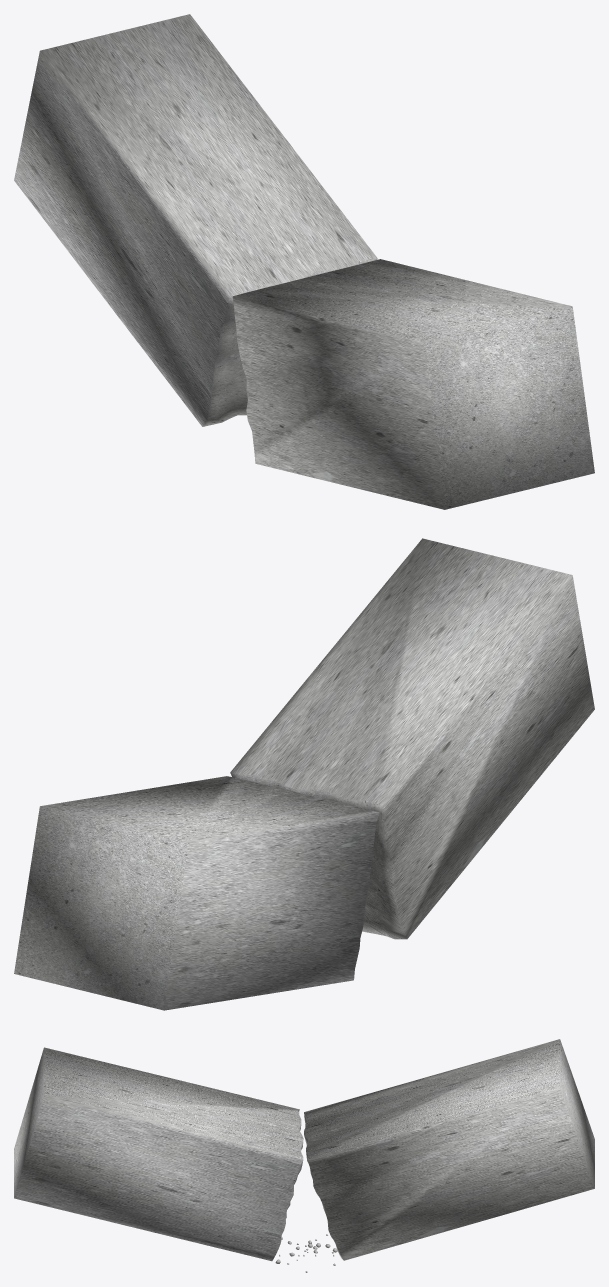
The model's file is flexion-falla-viga.gltf.
3 views of the same model, one above another, from view 1: azimuth 30°, elevation 25°; view 2: azimuth 150°, elevation 25°; view 3: azimuth 270°, elevation 25° (orthographic). The views are drawn at different scales.
Visible parts, largest first — view 1: falla-viga; view 2: falla-viga; view 3: falla-viga.
Boxes of the visible parts, box(x1,y1,x2,y2) form: falla-viga: box(14, 14, 594, 509); falla-viga: box(14, 538, 594, 1010); falla-viga: box(14, 1039, 594, 1272).
Bounding box in the file's own units: 0.1861 × 0.2465 × 0.7476.
2 materials, 2 textured.
